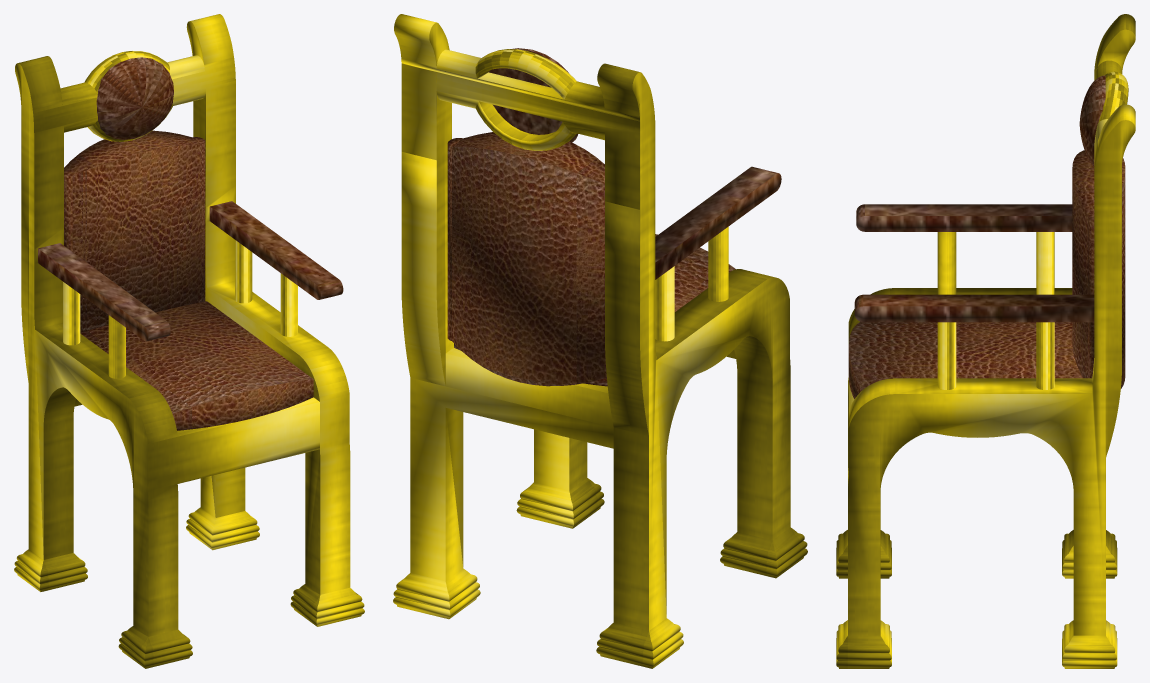
The picture shows the model from 3 angles, left to right: view 1: azimuth 30°, elevation 25°; view 2: azimuth 150°, elevation 25°; view 3: azimuth 270°, elevation 25°; orthographic projection. The views are drawn at different scales.
Parts seen in each view (by area): view 1: SketchUp (×8), Компонент_1 (×2), Компонент_3; view 2: SketchUp (×7), Компонент_1 (×2), Компонент_3; view 3: SketchUp (×9), Компонент_1 (×2), Компонент_3.
Boxes of the visible parts, bbox=[...] form: SketchUp (×8): bbox=[14, 14, 364, 668]; Компонент_1 (×2): bbox=[64, 130, 313, 430]; Компонент_3: bbox=[96, 57, 173, 139]; SketchUp (×7): bbox=[393, 14, 807, 668]; Компонент_1 (×2): bbox=[447, 132, 735, 386]; Компонент_3: bbox=[488, 48, 568, 134]; SketchUp (×9): bbox=[836, 14, 1135, 668]; Компонент_1 (×2): bbox=[848, 150, 1125, 398]; Компонент_3: bbox=[1079, 75, 1105, 166].
Bounding box in the file's own units: 49.44 × 54.03 × 109.
3 materials, 3 textured.
